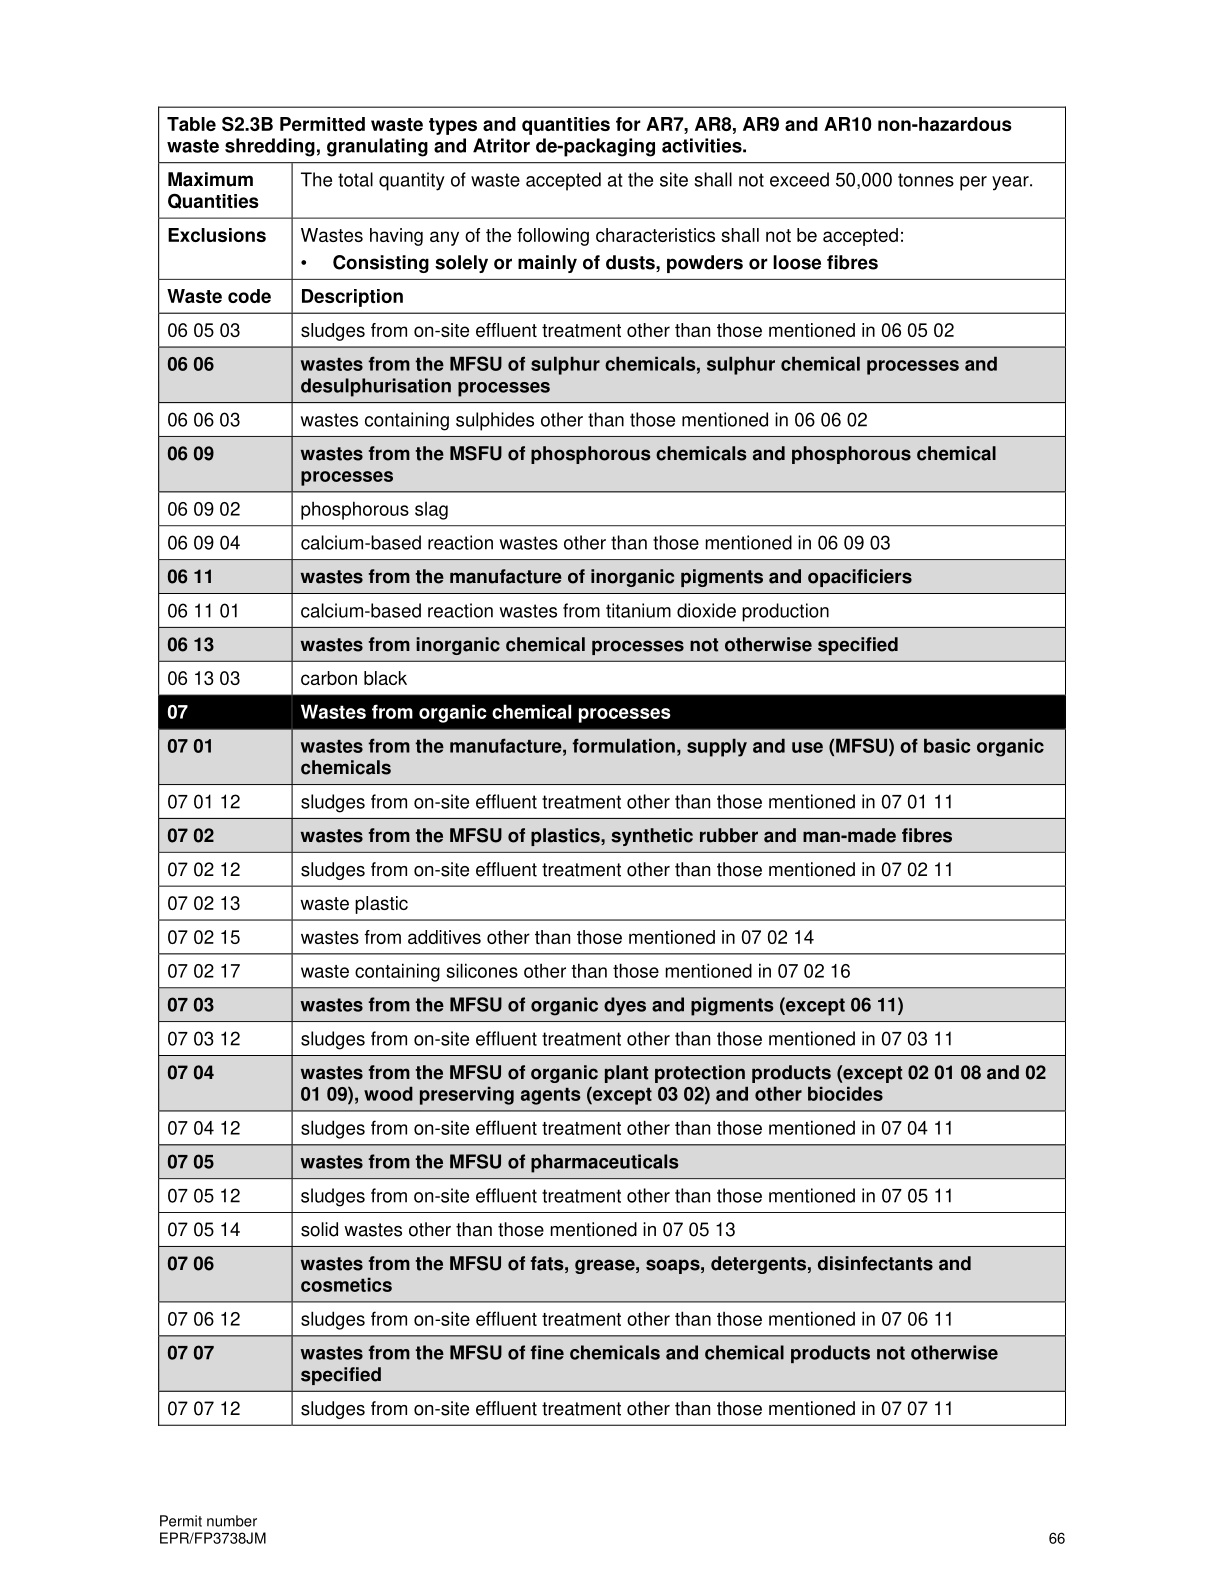merged_cells: (156, 104, 1067, 1427)
